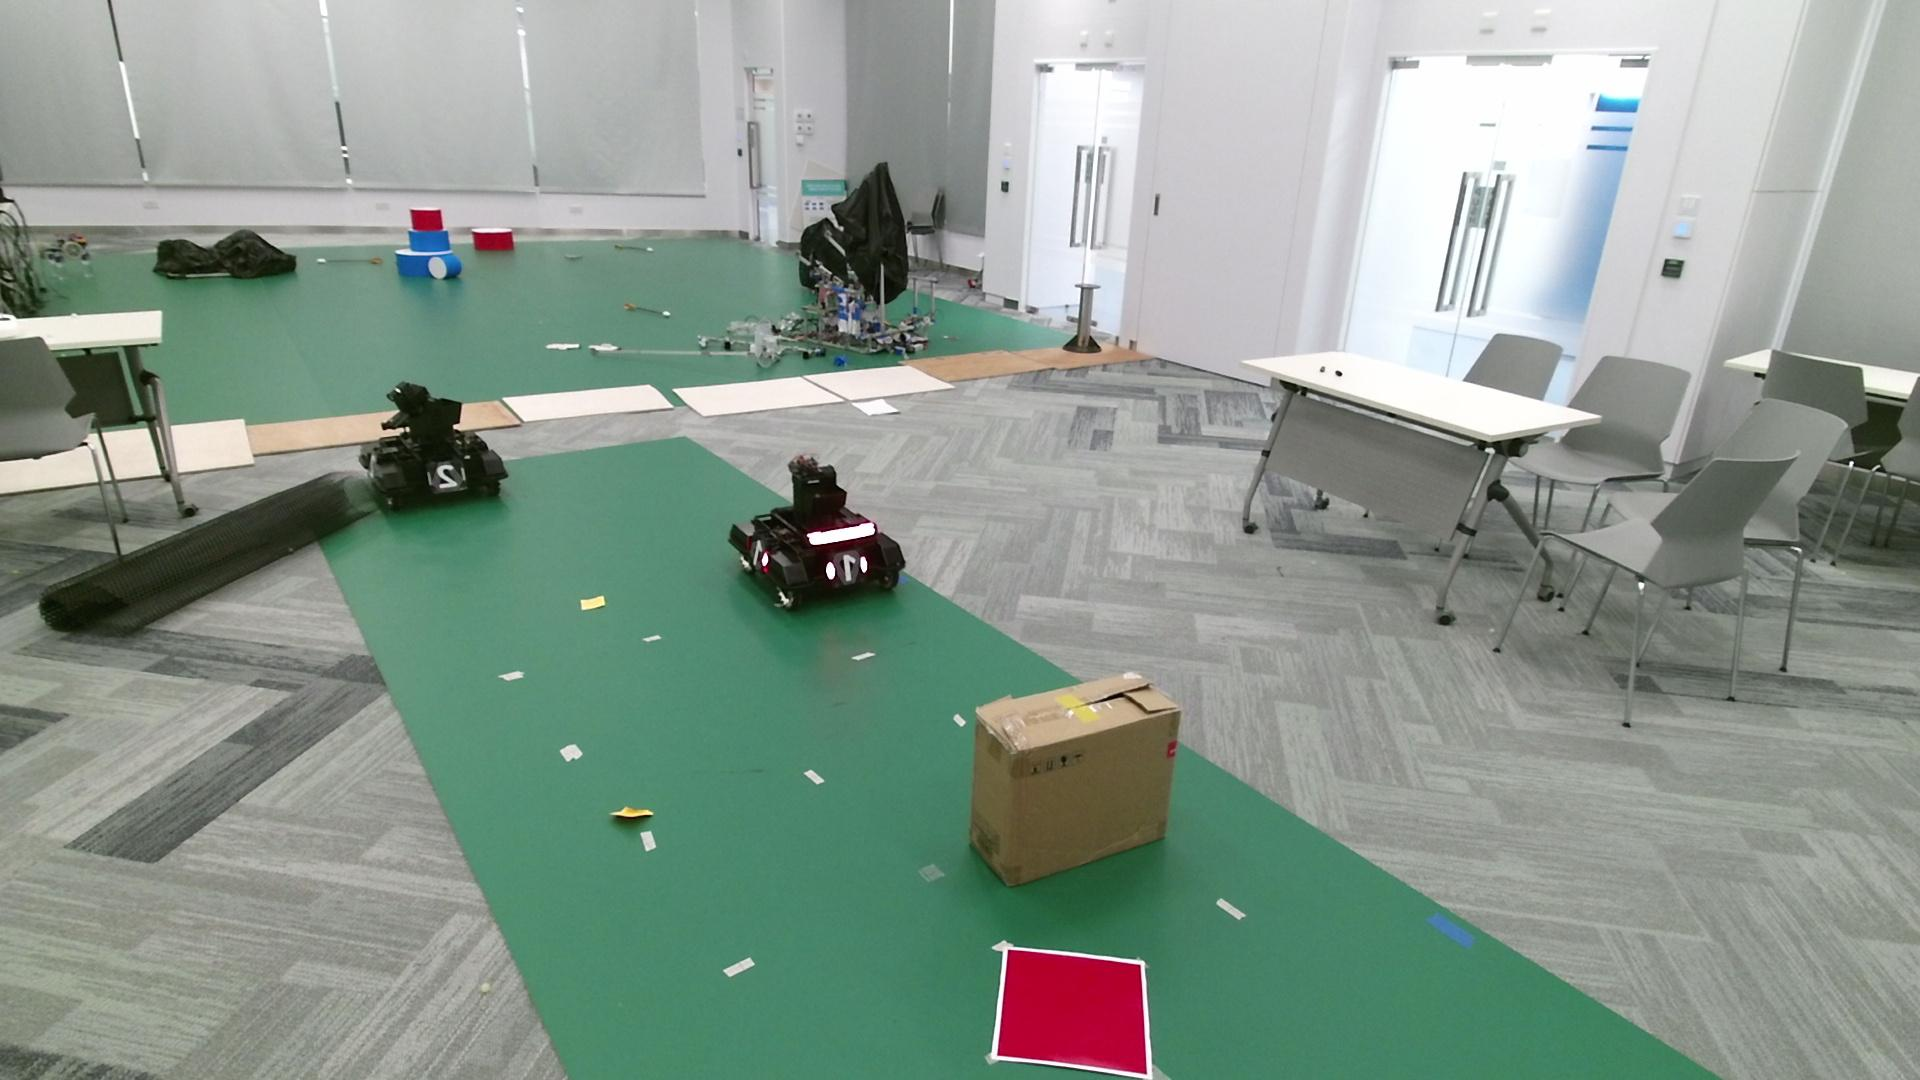robot: (729, 454, 905, 608), (359, 381, 509, 510)
